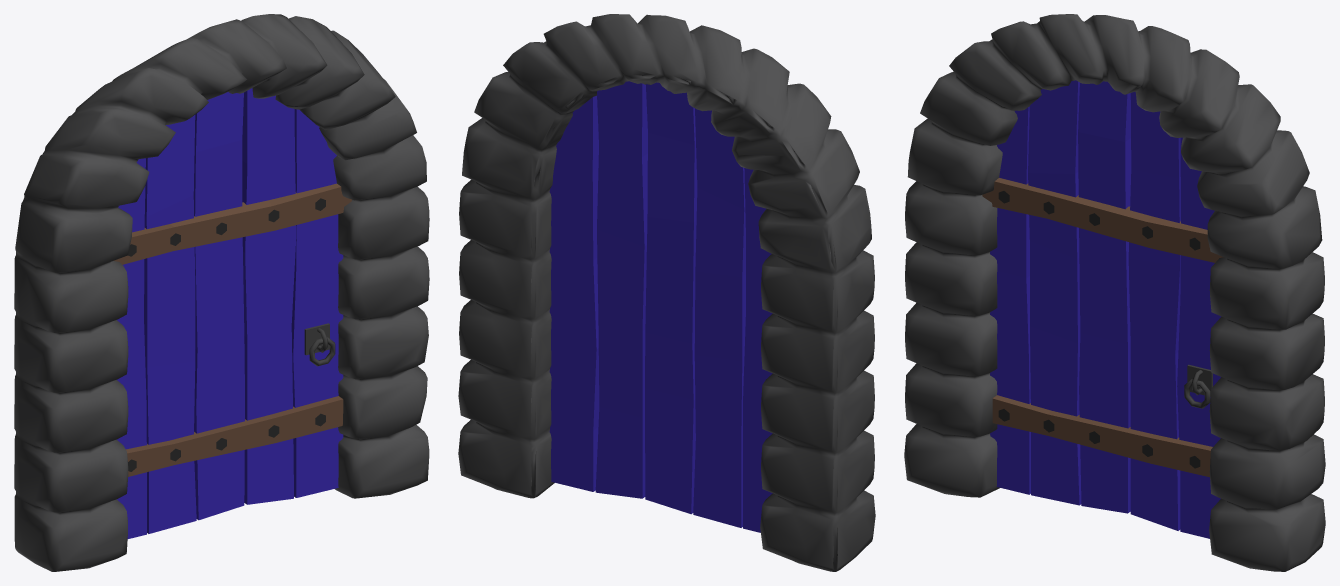
Rendered from door_blue.fbx.
The picture shows the model from 3 angles, left to right: view 1: azimuth 30°, elevation 25°; view 2: azimuth 150°, elevation 25°; view 3: azimuth 330°, elevation 25°; orthographic projection.
Parts seen in each view (by area): view 1: door_blue; view 2: door_blue; view 3: door_blue.
Boxes of the visible parts, x1,y1,x2,y2 form: door_blue: [14, 14, 429, 571]; door_blue: [458, 14, 875, 571]; door_blue: [904, 14, 1325, 571].
Size of the model in its own units: 105 by 131 by 20.34.
Materials: 1 (1 with a texture image).
